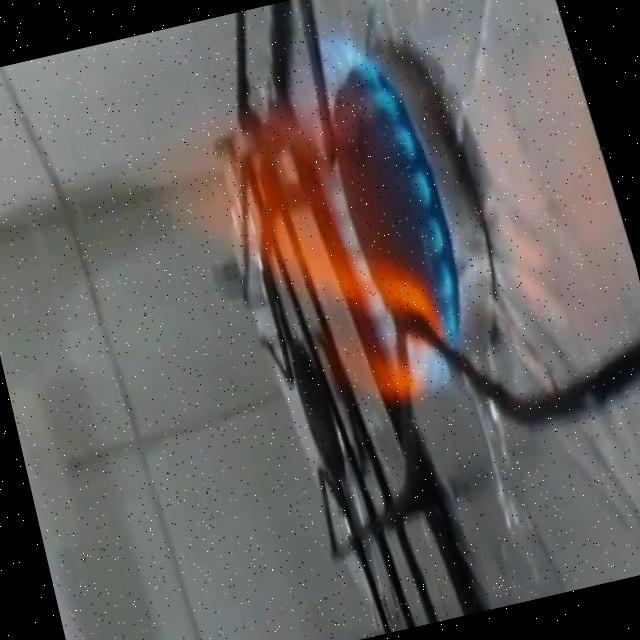fire: (129, 7, 504, 465)
